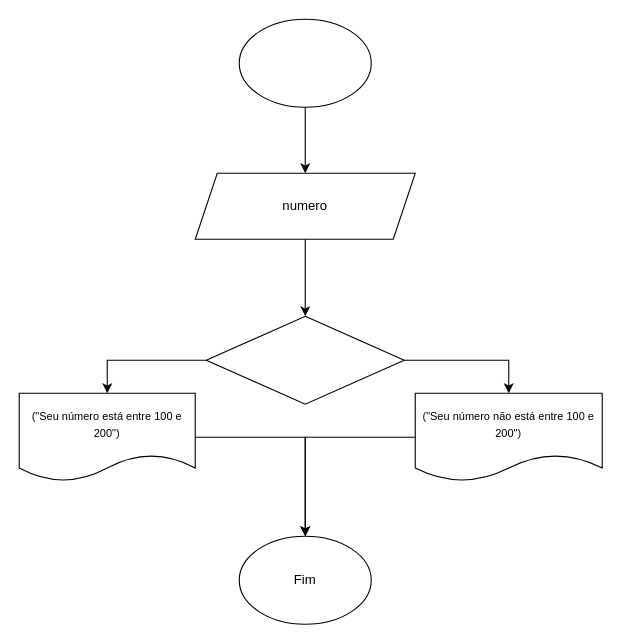
This 622x644 diagram has some shape labels left out. The centre of each missing label's shape, as x and y in pixels:
"(numero<=200) e (numero>=100)" belongs at (x=304, y=359).
"Início" belongs at (x=304, y=62).
